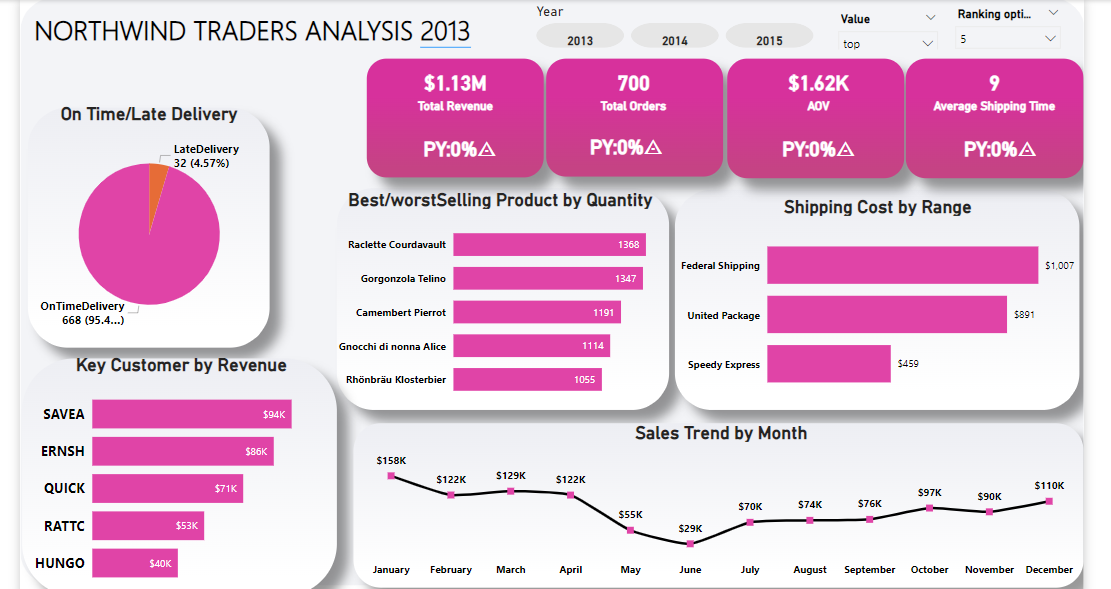

Layout of this report page (visuals, bound fields, positions):
{"tool":"powerbi","page":{"name":"Page 1","canvas":[1280,720],"ordinal":0},"visuals":[{"type":"card","fields":{"Values":["Dax Measures.PYAST"]},"box":[1079.8,143,200.2,71.5],"z":0},{"type":"card","fields":{"Values":["Dax Measures.PYAOV"]},"box":[855.2,143,213.1,71.5],"z":1000},{"type":"card","fields":{"Values":["Dax Measures.PYRevenue"]},"box":[429.1,143,201.7,71.5],"z":2000},{"type":"card","fields":{"Values":["Dax Measures.PYOrders"]},"box":[668.9,143.1,121.1,66.1],"z":3000},{"type":"lineChart","title":"Sales Trend by Month","fields":{"Y":["Dax Measures.Total Revenue"],"Category":["Calendar.MONTH"]},"box":[412.9,507.9,863,195.4],"z":4000},{"type":"barChart","fields":{"Category":["products.productName"],"Y":["Dax Measures.RankBestWorstSellingProduct"]},"box":[377.1,227.1,403.3,265.6],"z":5000},{"type":"slicer","fields":{"Values":["TopButtom.Value"]},"box":[975.8,9.6,140.4,49.5],"z":6000},{"type":"slicer","fields":{"Values":["Ranking option.Ranking option"]},"box":[1116.2,4.1,147.3,55.1],"z":7000},{"type":"barChart","fields":{"Category":["customers.customerID"],"Y":["Dax Measures.Total Revenue"]},"box":[12.4,426.7,364.7,293.2],"z":8000},{"type":"pieChart","title":"On Time/Late Delivery ","fields":{"Y":["Dax Measures.LateDelivery","Dax Measures.OnTimeDelivery"]},"box":[12.9,124.4,284.6,291.8],"z":9000},{"type":"clusteredBarChart","title":" Shipping Cost by Range ","fields":{"Y":["Dax Measures.ShippingCostRange"],"Category":["shippers.companyName"]},"box":[789.5,236.2,486.3,255.7],"z":10000},{"type":"advancedSlicerVisual","fields":{"Values":["Calendar.Year"]},"box":[616.6,4.1,345.5,59.2],"z":11000},{"type":"textbox","box":[11.4,8.6,593.5,62.9],"z":12000},{"type":"card","fields":{"Values":["Dax Measures.Total Revenue"]},"box":[417.6,71.5,213.1,71.5],"z":13000},{"type":"card","fields":{"Values":["Dax Measures.Total Orders"]},"box":[631.7,71.6,213.3,71.6],"z":14000},{"type":"card","fields":{"Values":["Dax Measures.AOV"]},"box":[855.2,71.5,213.1,71.5],"z":15000},{"type":"card","fields":{"Values":["Dax Measures.Average Shipping Time"]},"box":[1066.9,71.5,213.1,71.5],"z":16000}]}

Visuals, with their boxes on the page's 1280x720 design canvas (x1, y1, x2, y2). These are canvas units, not pixel positions in the 1111x589 screenshot, which may show the page scaled, cropped or inside an application window:
card - Dax Measures.PYAST: (1080, 143, 1280, 214)
card - Dax Measures.PYAOV: (855, 143, 1068, 214)
card - Dax Measures.PYRevenue: (429, 143, 631, 214)
card - Dax Measures.PYOrders: (669, 143, 790, 209)
"Sales Trend by Month" lineChart: (413, 508, 1276, 703)
barChart - products.productName x Dax Measures.RankBestWorstSellingProduct: (377, 227, 780, 493)
slicer - TopButtom.Value: (976, 10, 1116, 59)
slicer - Ranking option.Ranking option: (1116, 4, 1264, 59)
barChart - customers.customerID x Dax Measures.Total Revenue: (12, 427, 377, 720)
"On Time/Late Delivery " pieChart: (13, 124, 298, 416)
" Shipping Cost by Range " clusteredBarChart: (790, 236, 1276, 492)
advancedSlicerVisual - Calendar.Year: (617, 4, 962, 63)
textbox: (11, 9, 605, 72)
card - Dax Measures.Total Revenue: (418, 72, 631, 143)
card - Dax Measures.Total Orders: (632, 72, 845, 143)
card - Dax Measures.AOV: (855, 72, 1068, 143)
card - Dax Measures.Average Shipping Time: (1067, 72, 1280, 143)
